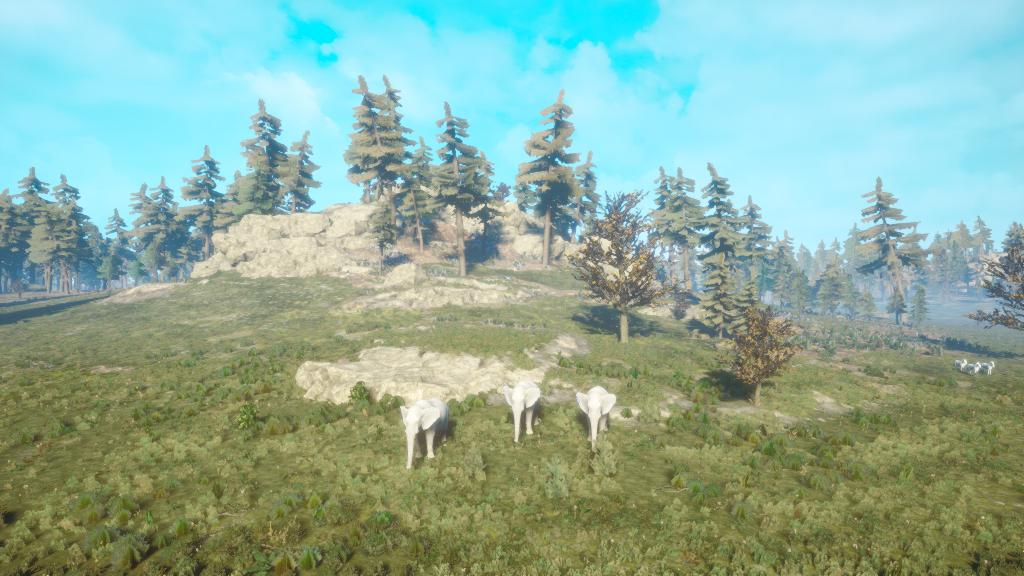elephant: (394, 394, 452, 474), (575, 383, 619, 453), (503, 379, 545, 444)
